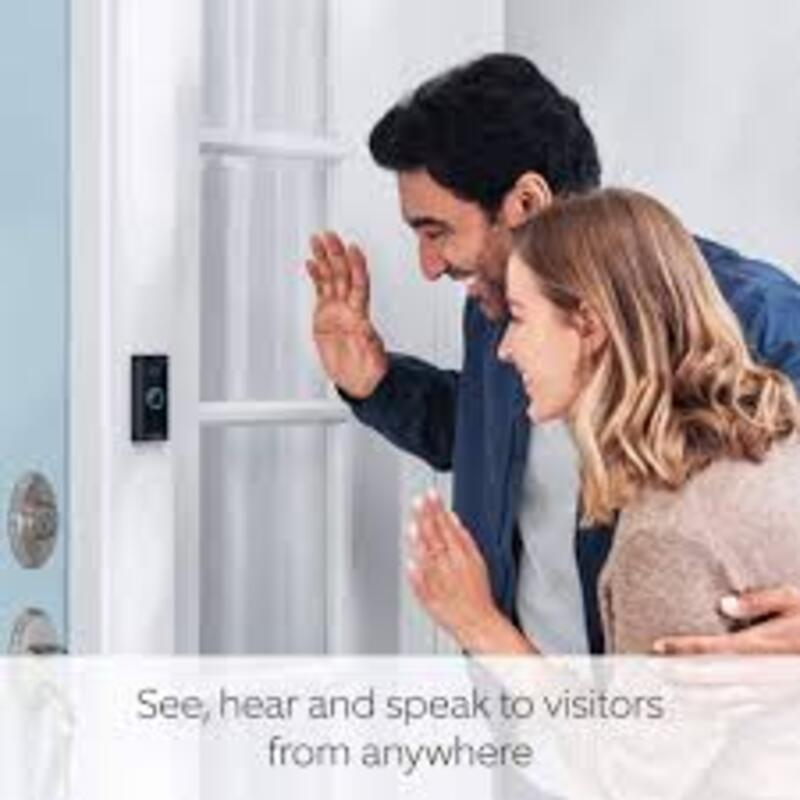doorbell: (124, 343, 176, 444)
